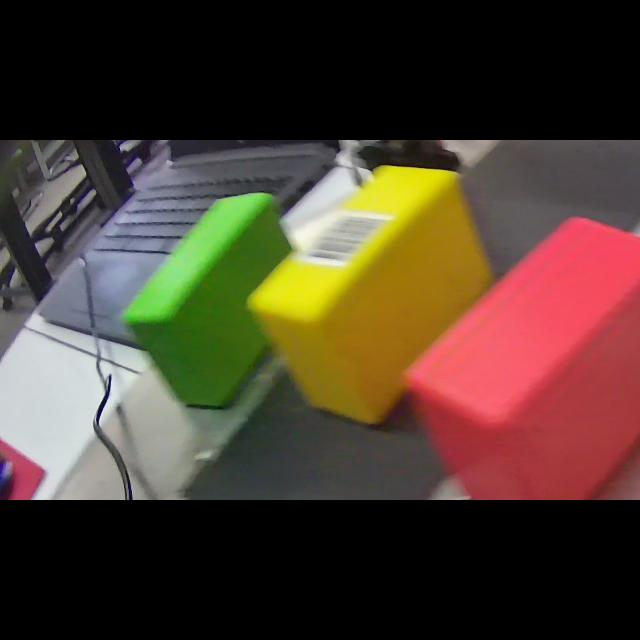greenBox: (121, 187, 303, 411)
redBox: (406, 210, 640, 500)
yellowBox: (248, 158, 490, 434)
